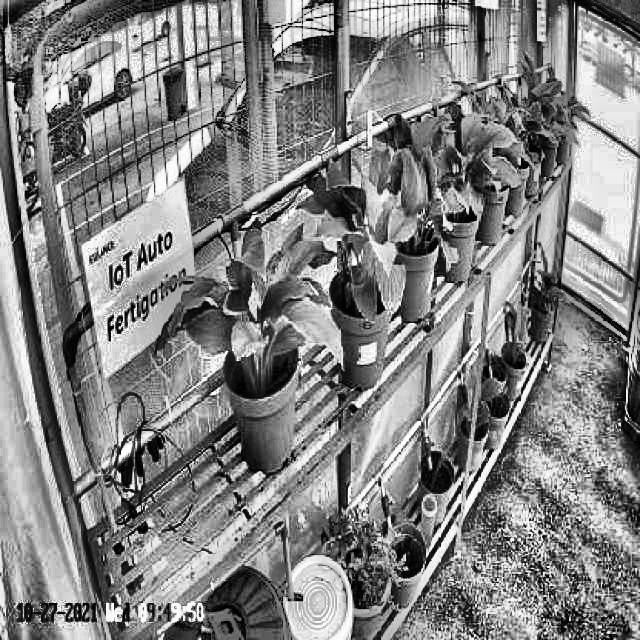plants: (156, 218, 347, 380), (296, 162, 406, 320), (360, 115, 446, 254), (426, 105, 486, 230)
